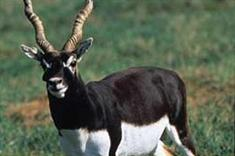Blackbuck: (20, 1, 200, 156)
